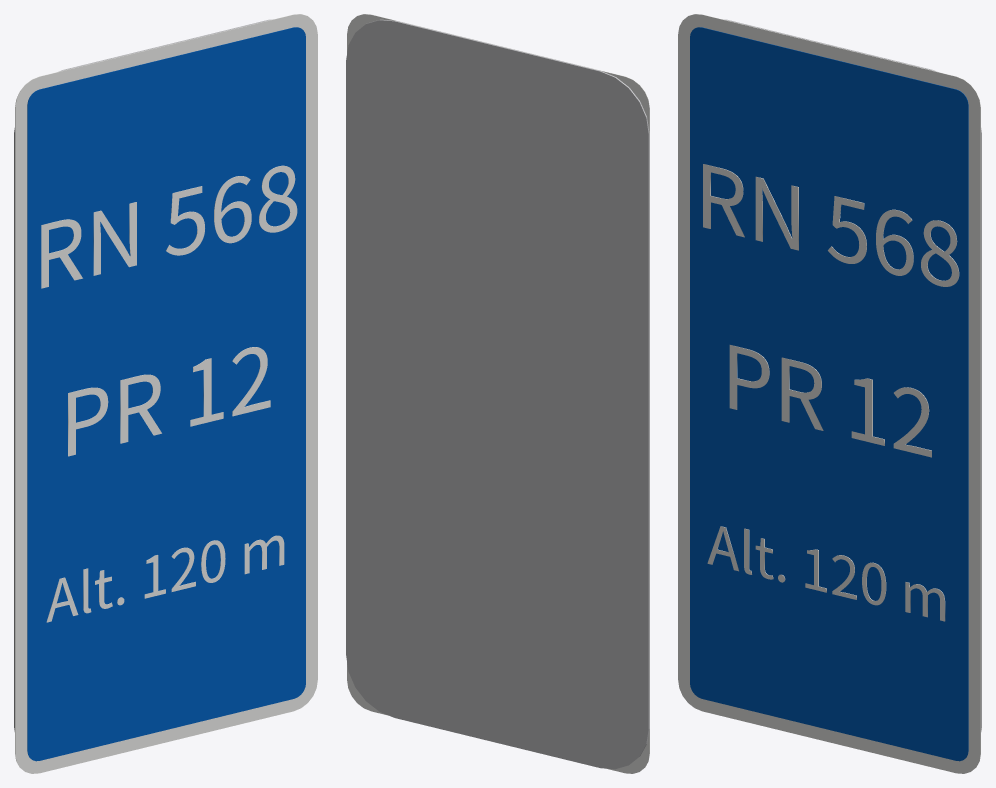
The picture shows the model from 3 angles, left to right: view 1: azimuth 30°, elevation 25°; view 2: azimuth 150°, elevation 25°; view 3: azimuth 330°, elevation 25°; orthographic projection.
Parts seen in each view (by area): view 1: E57b_fond01, E57b_cadre00, E57b_txt02, E57b_txt03, E57b_txt04, E57b_dos; view 2: E57b_dos, E57b_cadre00; view 3: E57b_fond01, E57b_cadre00, E57b_txt02, E57b_txt03, E57b_txt04, E57b_dos.
Boxes of the visible parts, <box> form: E57b_fond01: <box>27,27,305,761</box>; E57b_cadre00: <box>15,14,317,773</box>; E57b_txt02: <box>41,165,297,288</box>; E57b_txt03: <box>68,347,270,456</box>; E57b_txt04: <box>46,535,284,622</box>; E57b_dos: <box>14,19,272,731</box>; E57b_dos: <box>346,19,649,769</box>; E57b_cadre00: <box>347,14,649,773</box>; E57b_fond01: <box>690,27,968,761</box>; E57b_cadre00: <box>678,14,980,773</box>; E57b_txt02: <box>703,164,959,286</box>; E57b_txt03: <box>729,345,931,457</box>; E57b_txt04: <box>707,526,945,621</box>; E57b_dos: <box>723,19,981,731</box>.
Bounding box in the file's own units: 0.25 × 0.55 × 0.0033.
